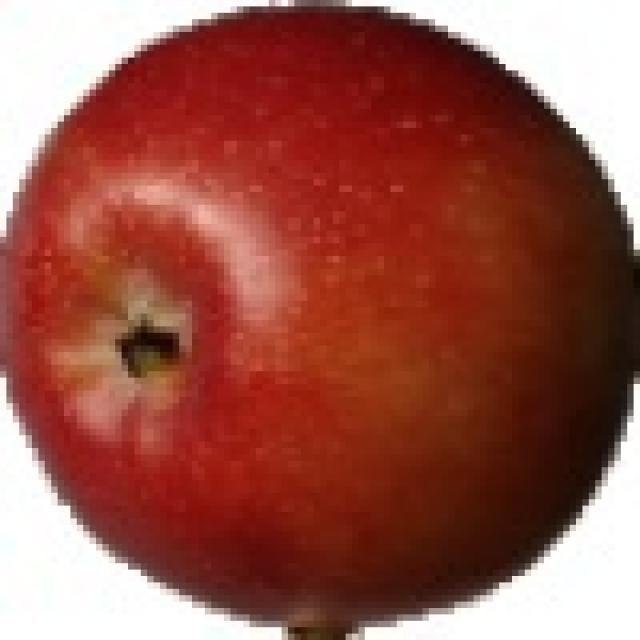apple: (11, 6, 632, 628)
